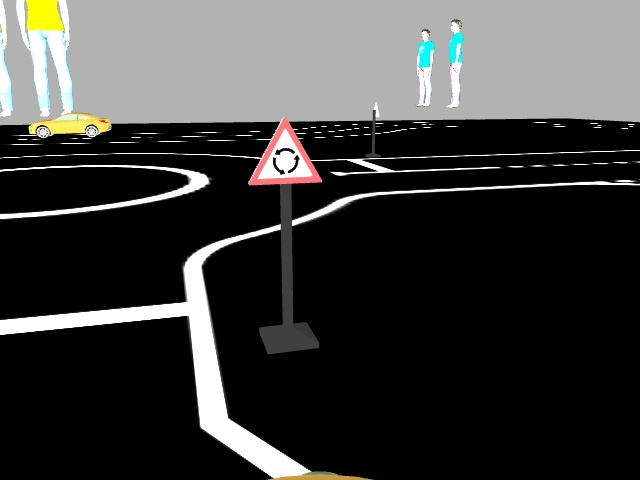Roundabout: (243, 116, 324, 184)
